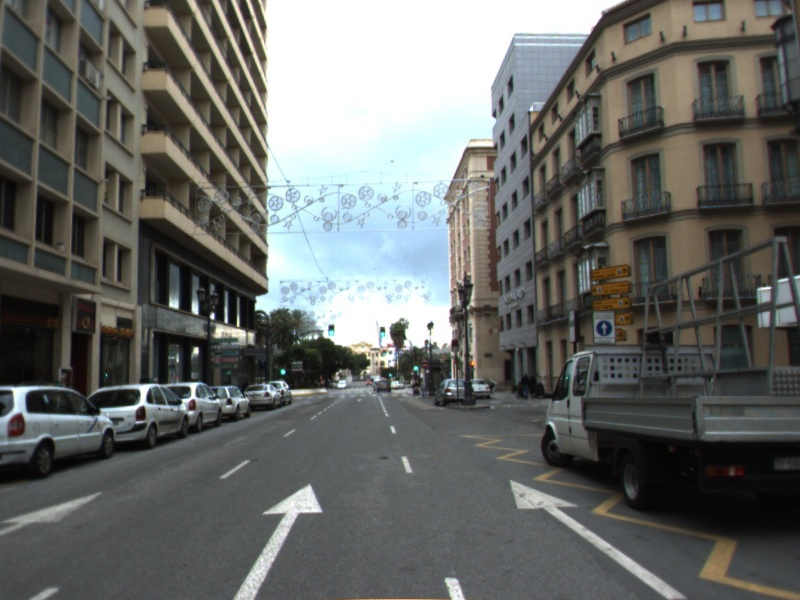STRAIGHT: (504, 474, 692, 600), (227, 479, 327, 600), (1, 487, 109, 546)
